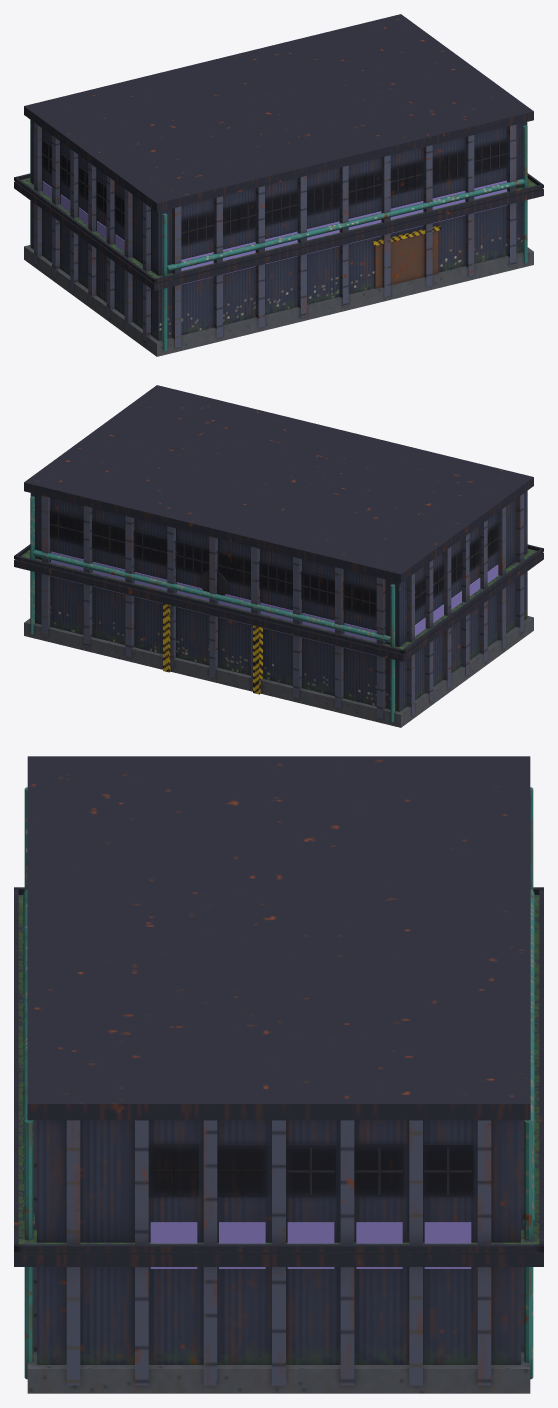
File: Deep.fbx
3 views of the same model, one above another, from view 1: azimuth 30°, elevation 25°; view 2: azimuth 150°, elevation 25°; view 3: azimuth 270°, elevation 25° (orthographic). The views are drawn at different scales.
Visible parts, largest first — view 1: FactoryHallMesh.001, FactoryRoofMesh.001, FactoryWindows.001; view 2: FactoryHallMesh.001, FactoryRoofMesh.001, FactoryWindows.001; view 3: FactoryHallMesh.001, FactoryRoofMesh.001, FactoryWindows.001.
Boxes of the visible parts, x1=… form: FactoryHallMesh.001: x1=24, y1=14, x2=533, y2=356; FactoryRoofMesh.001: x1=14, y1=173, x2=543, y2=290; FactoryWindows.001: x1=42, y1=180, x2=506, y2=284; FactoryHallMesh.001: x1=24, y1=385, x2=533, y2=727; FactoryRoofMesh.001: x1=14, y1=544, x2=543, y2=661; FactoryWindows.001: x1=51, y1=551, x2=498, y2=655; FactoryHallMesh.001: x1=23, y1=756, x2=534, y2=1393; FactoryRoofMesh.001: x1=14, y1=887, x2=543, y2=1266; FactoryWindows.001: x1=150, y1=1222, x2=471, y2=1268.
Size of the model in its own units: 186 by 70 by 116.
Materials: 19 (8 with a texture image).
